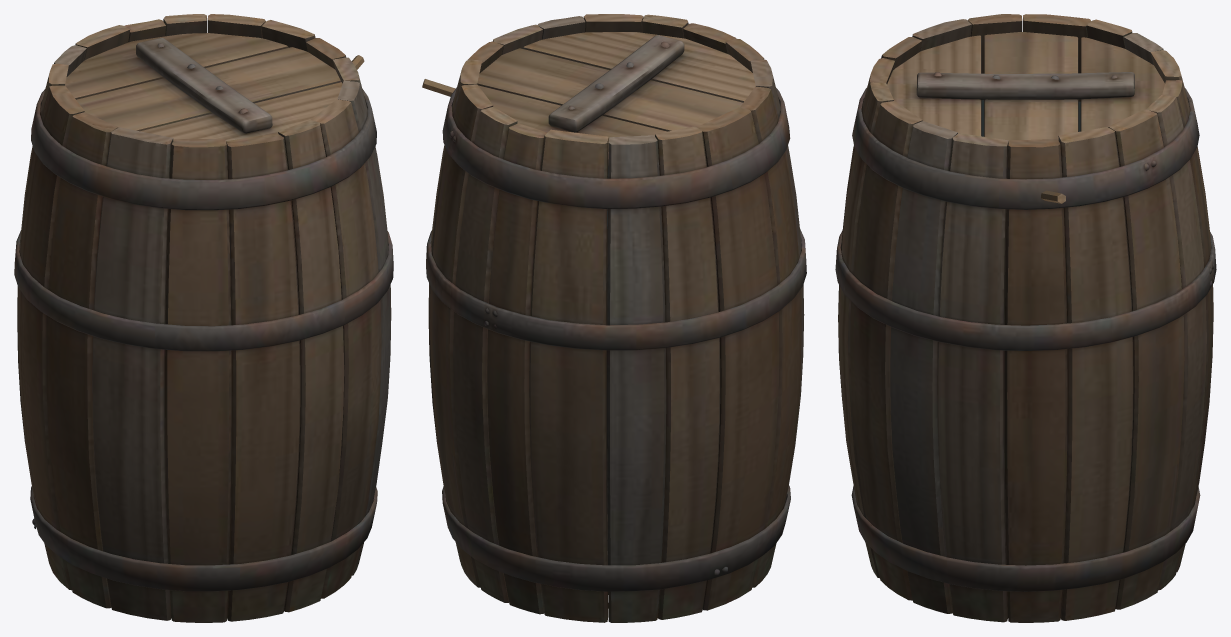
Rendered from barrel.glb.
The picture shows the model from 3 angles, left to right: view 1: azimuth 30°, elevation 25°; view 2: azimuth 150°, elevation 25°; view 3: azimuth 270°, elevation 25°; orthographic projection.
Parts seen in each view (by area): view 1: barrel, Lid; view 2: barrel, Lid; view 3: barrel, Lid.
Boxes of the visible parts, <box> form: barrel: <box>14,14,393,622</box>; Lid: <box>65,33,342,141</box>; barrel: <box>426,14,806,622</box>; Lid: <box>477,32,755,165</box>; barrel: <box>835,14,1216,622</box>; Lid: <box>887,32,1164,143</box>.
Size of the model in its own units: 0.5362 by 0.7233 by 0.5179.
Materials: 1 (1 with a texture image).
